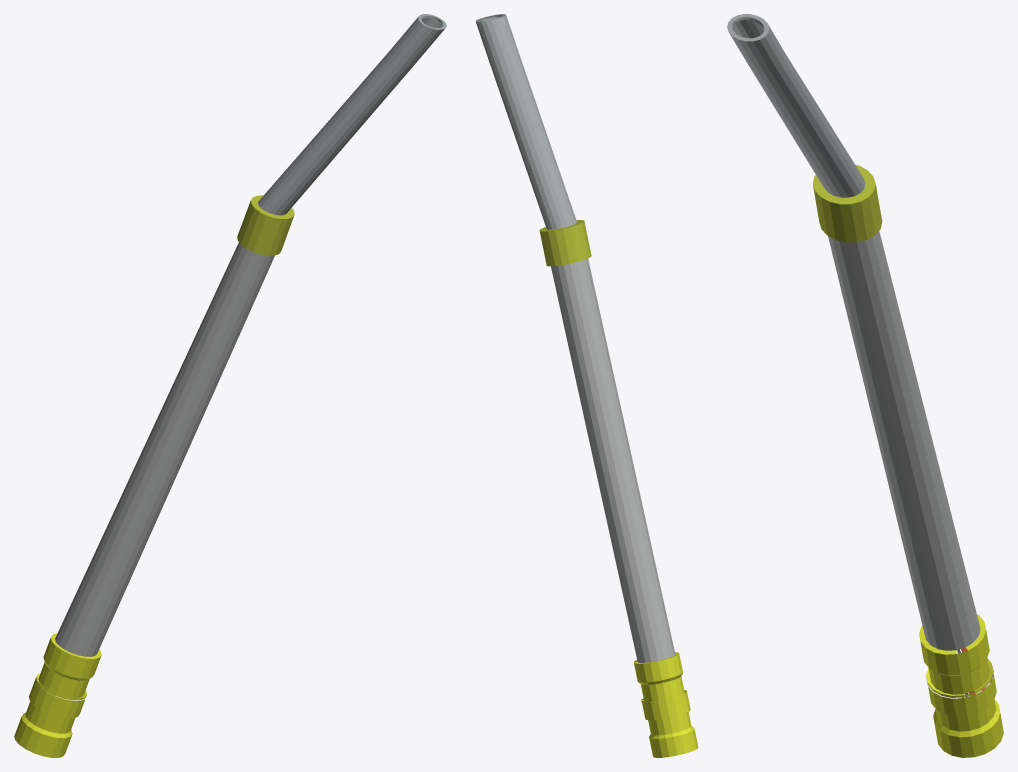
File: Bombilla.fbx
The picture shows the model from 3 angles, left to right: view 1: azimuth 30°, elevation 25°; view 2: azimuth 150°, elevation 25°; view 3: azimuth 270°, elevation 25°; orthographic projection. The views are drawn at different scales.
Parts seen in each view (by area): view 1: Bombilla; view 2: Bombilla; view 3: Bombilla.
Boxes of the visible parts, x1=… form: Bombilla: x1=14, y1=14, x2=446, y2=757; Bombilla: x1=475, y1=14, x2=698, y2=757; Bombilla: x1=727, y1=14, x2=1003, y2=757.
Size of the model in its own units: 161 by 330 by 91.06.
